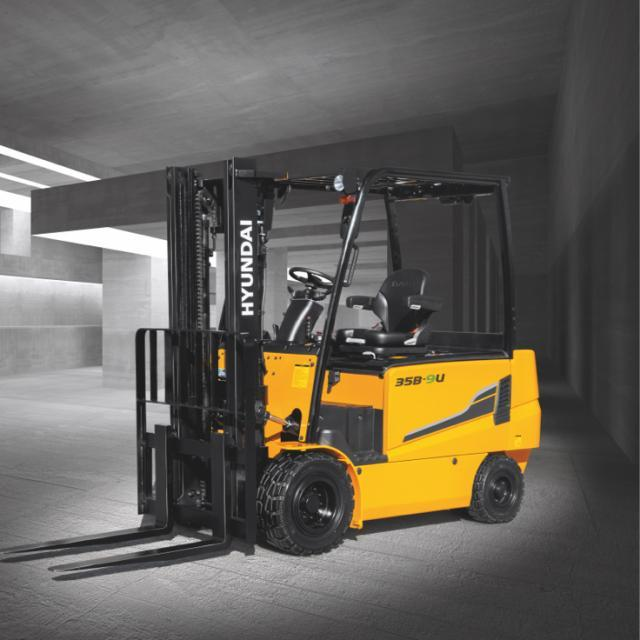forklift: (108, 158, 557, 596)
